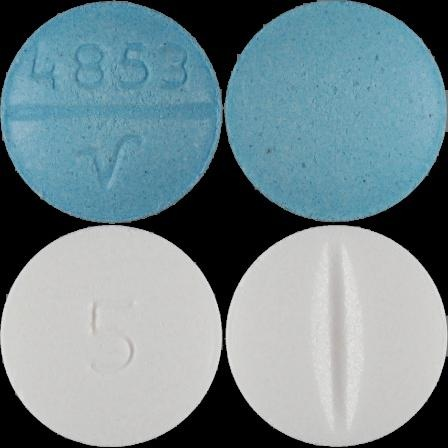53808-0618: (0, 0, 224, 224)
